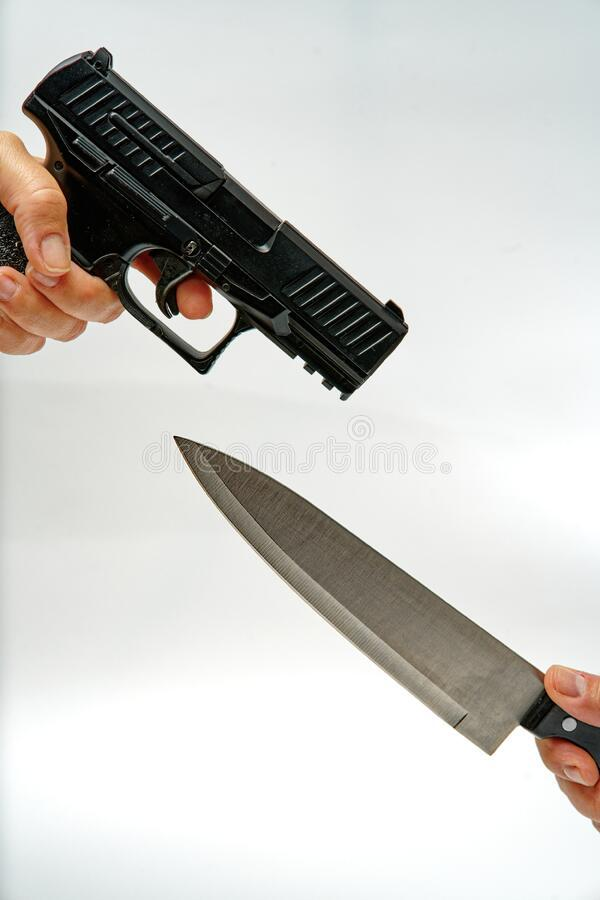weapon: (173, 434, 600, 841), (0, 40, 408, 404)
